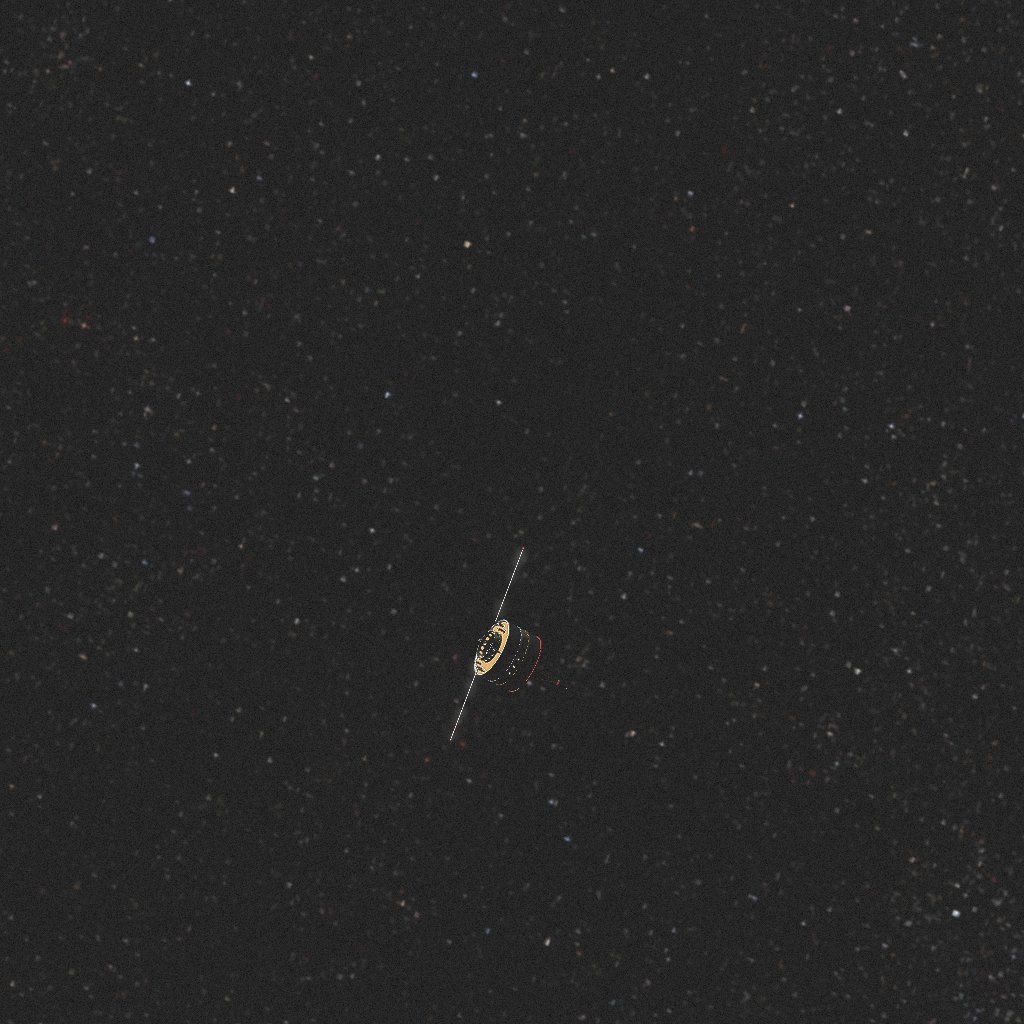double_star: (450, 547, 578, 741)
